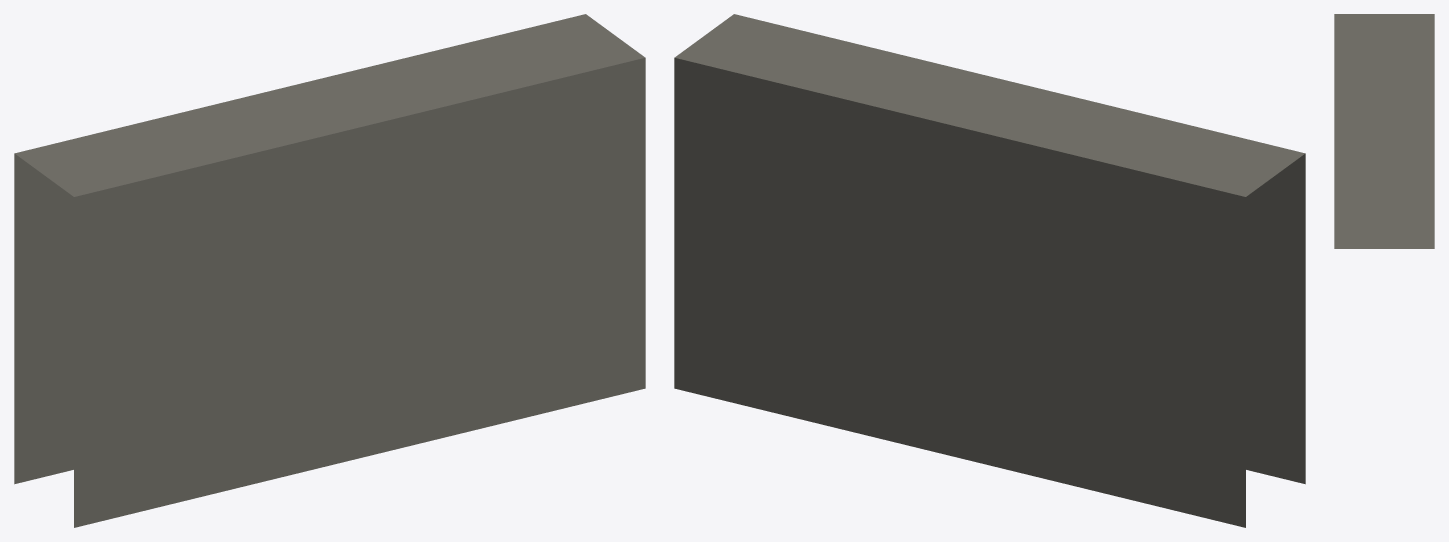
File: wall_col.glb
3 views of the same model, side by side, from view 1: azimuth 30°, elevation 25°; view 2: azimuth 150°, elevation 25°; view 3: azimuth 270°, elevation 25° (orthographic). The views are drawn at different scales.
Parts seen in each view (by area): view 1: wall_col; view 2: wall_col; view 3: wall_col.
Boxes of the visible parts, bbox=[...] form: wall_col: bbox=[14, 14, 645, 527]; wall_col: bbox=[674, 14, 1305, 527]; wall_col: bbox=[1334, 14, 1434, 248].
Size of the model in its own units: 2 by 1.11 by 0.3619.
Materials: 1 (1 with a texture image).
